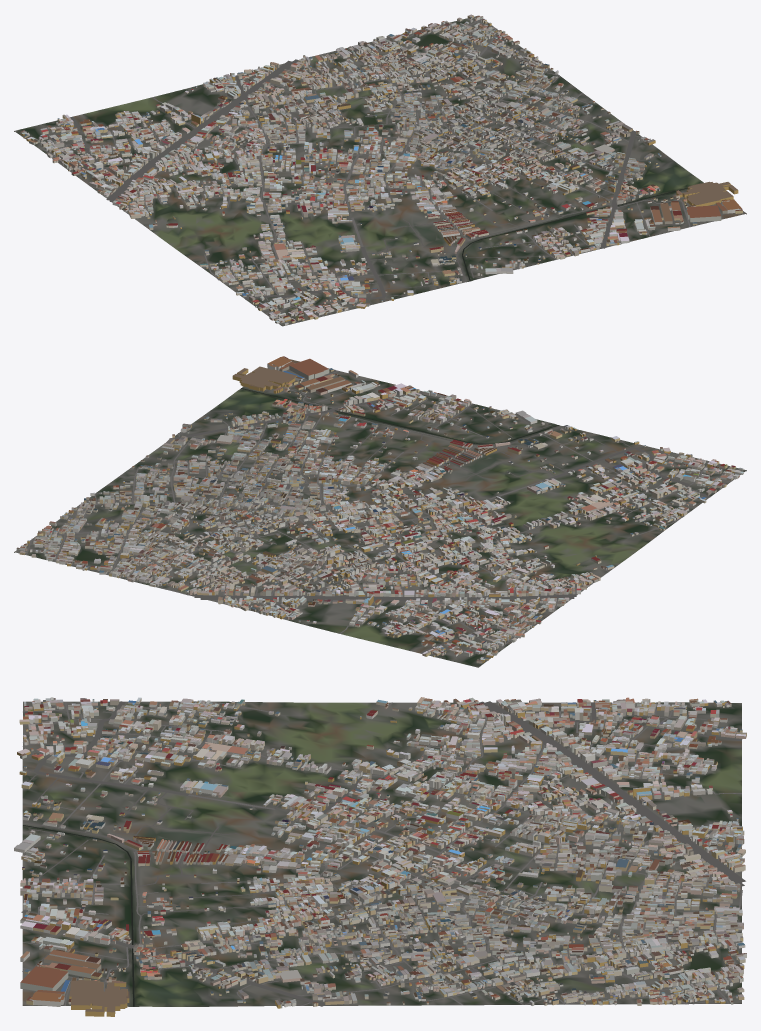
3 views of the same model, one above another, from view 1: azimuth 30°, elevation 25°; view 2: azimuth 150°, elevation 25°; view 3: azimuth 270°, elevation 25° (orthographic). The views are drawn at different scales.
Parts seen in each view (by area): view 1: buildings, ground, roads; view 2: buildings, ground, roads; view 3: buildings, ground, roads.
Part boxes in pixels (x1,y1,x2,y2): buildings: (20,14,742,325); ground: (14,15,746,326); roads: (43,18,721,324); buildings: (16,356,743,663); ground: (14,359,746,667); roads: (25,369,730,655); buildings: (14,697,746,1016); ground: (22,701,741,1006); roads: (21,701,745,1006).
Size of the model in its own units: 1457 by 24.6 by 1427.
